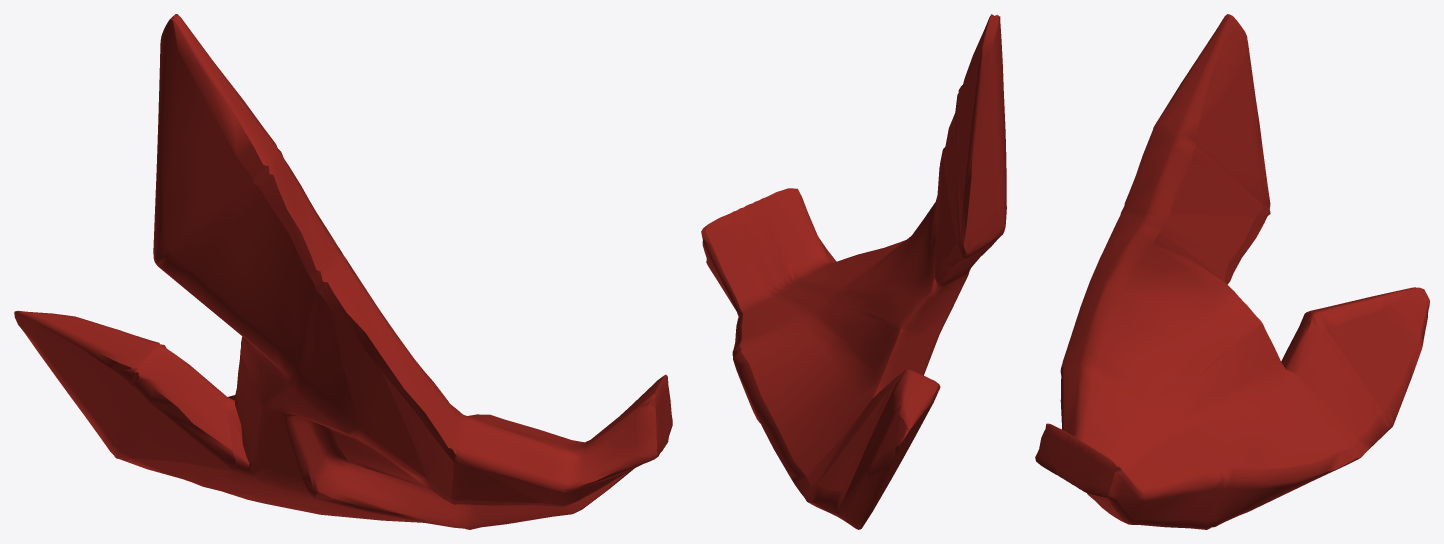
3 renders of one model, left to right at view 1: azimuth 30°, elevation 25°; view 2: azimuth 150°, elevation 25°; view 3: azimuth 270°, elevation 25°, orthographic. The views are drawn at different scales.
Visible parts, largest first — view 1: 481; view 2: 481; view 3: 481.
Boxes of the visible parts, x1,y1,x2,y2 form: 481: [14, 14, 672, 529]; 481: [701, 14, 1006, 529]; 481: [1035, 14, 1429, 529].
Size of the model in its own units: 73.29 by 75.84 by 88.74.
